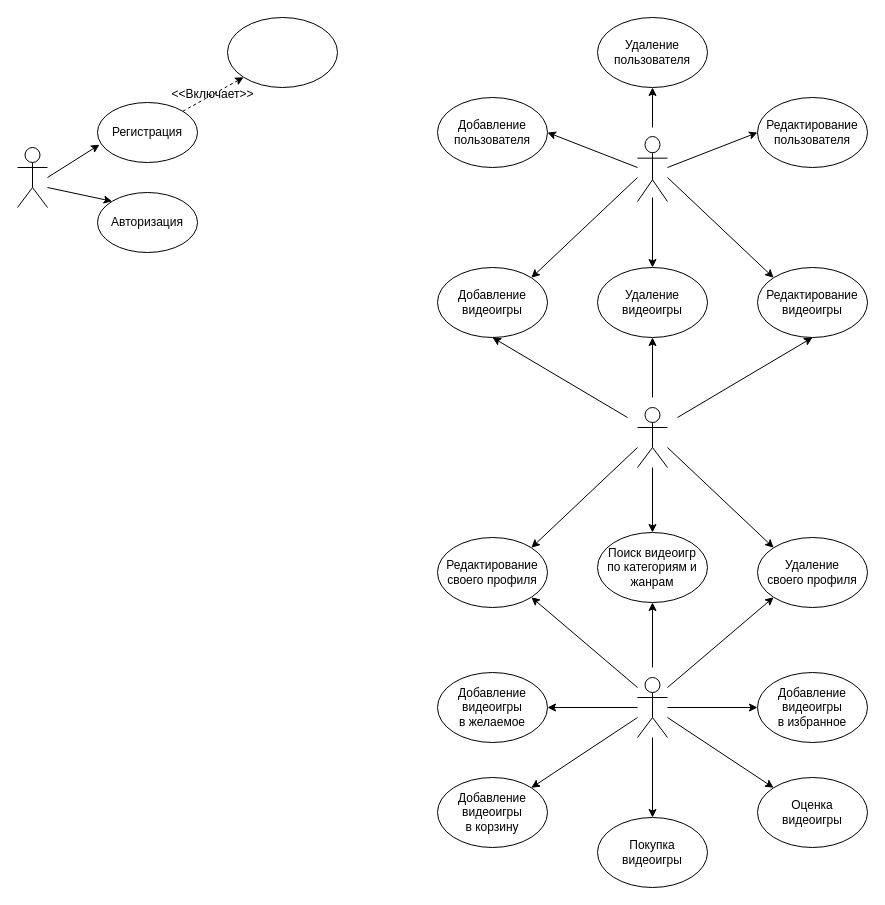
Image size: 885x905. Some labels were removed from this diagram. Each missing label, with the box of its shape:
Администратор: (636, 136, 668, 202)
Гость: (16, 146, 48, 208)
Издатель: (636, 406, 668, 468)
Подтверждение Email: (226, 16, 338, 88)
Пользователь: (636, 676, 668, 738)
